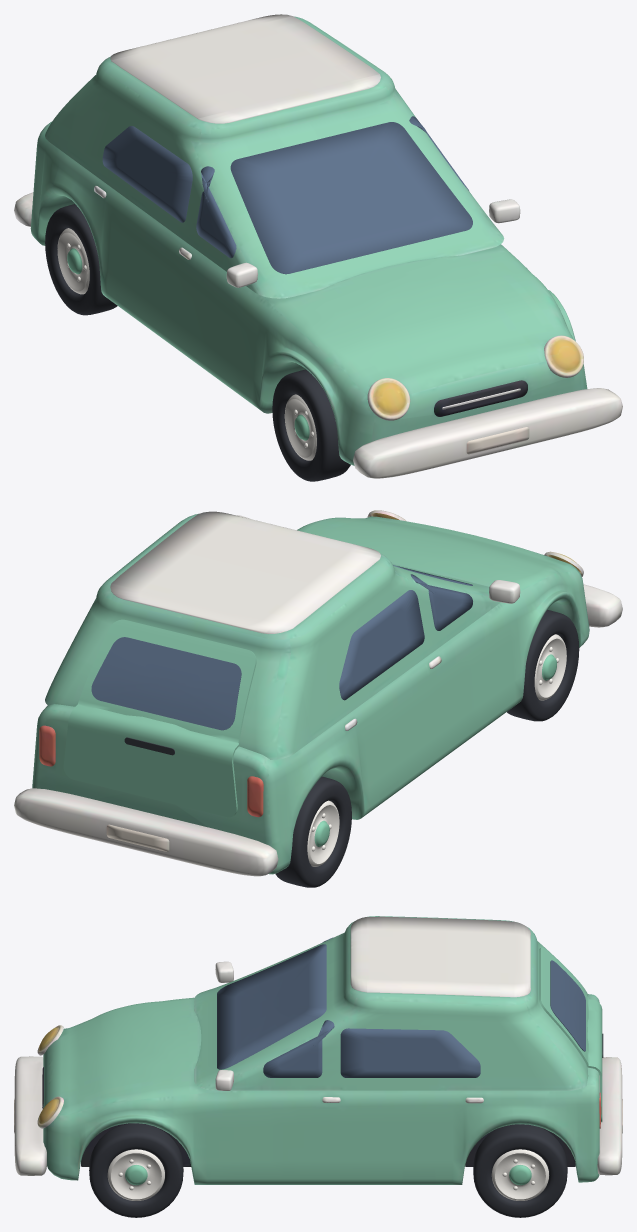
The model's file is hatchback.glb.
The picture shows the model from 3 angles, top to bottom: view 1: azimuth 30°, elevation 25°; view 2: azimuth 150°, elevation 25°; view 3: azimuth 270°, elevation 25°; orthographic projection. The views are drawn at different scales.
Parts seen in each view (by area): view 1: hatchback_body, hatchback_tailgate; view 2: hatchback_body, hatchback_tailgate; view 3: hatchback_body, hatchback_tailgate.
Boxes of the visible parts, x1,y1,x2,y2 form: hatchback_body: (14,14,622,478); hatchback_tailgate: (45,116,472,481); hatchback_body: (14,510,622,876); hatchback_tailgate: (63,565,579,887); hatchback_body: (14,916,622,1184); hatchback_tailgate: (89,937,603,1217).
Bounding box in the file's own units: 1.85 × 1.54 × 4.
2 materials, 2 textured.
